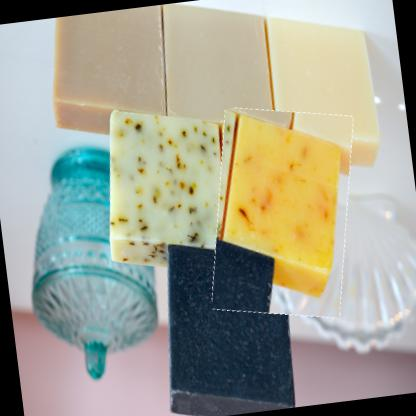soap: (197, 97, 368, 326)
